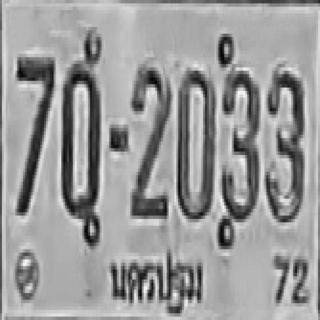N00: (59, 54, 100, 219), (176, 67, 215, 219)
N02: (129, 64, 170, 219)
N03: (218, 67, 259, 222), (263, 67, 303, 219)
N07: (15, 54, 54, 212)
P28: (104, 246, 208, 318)
